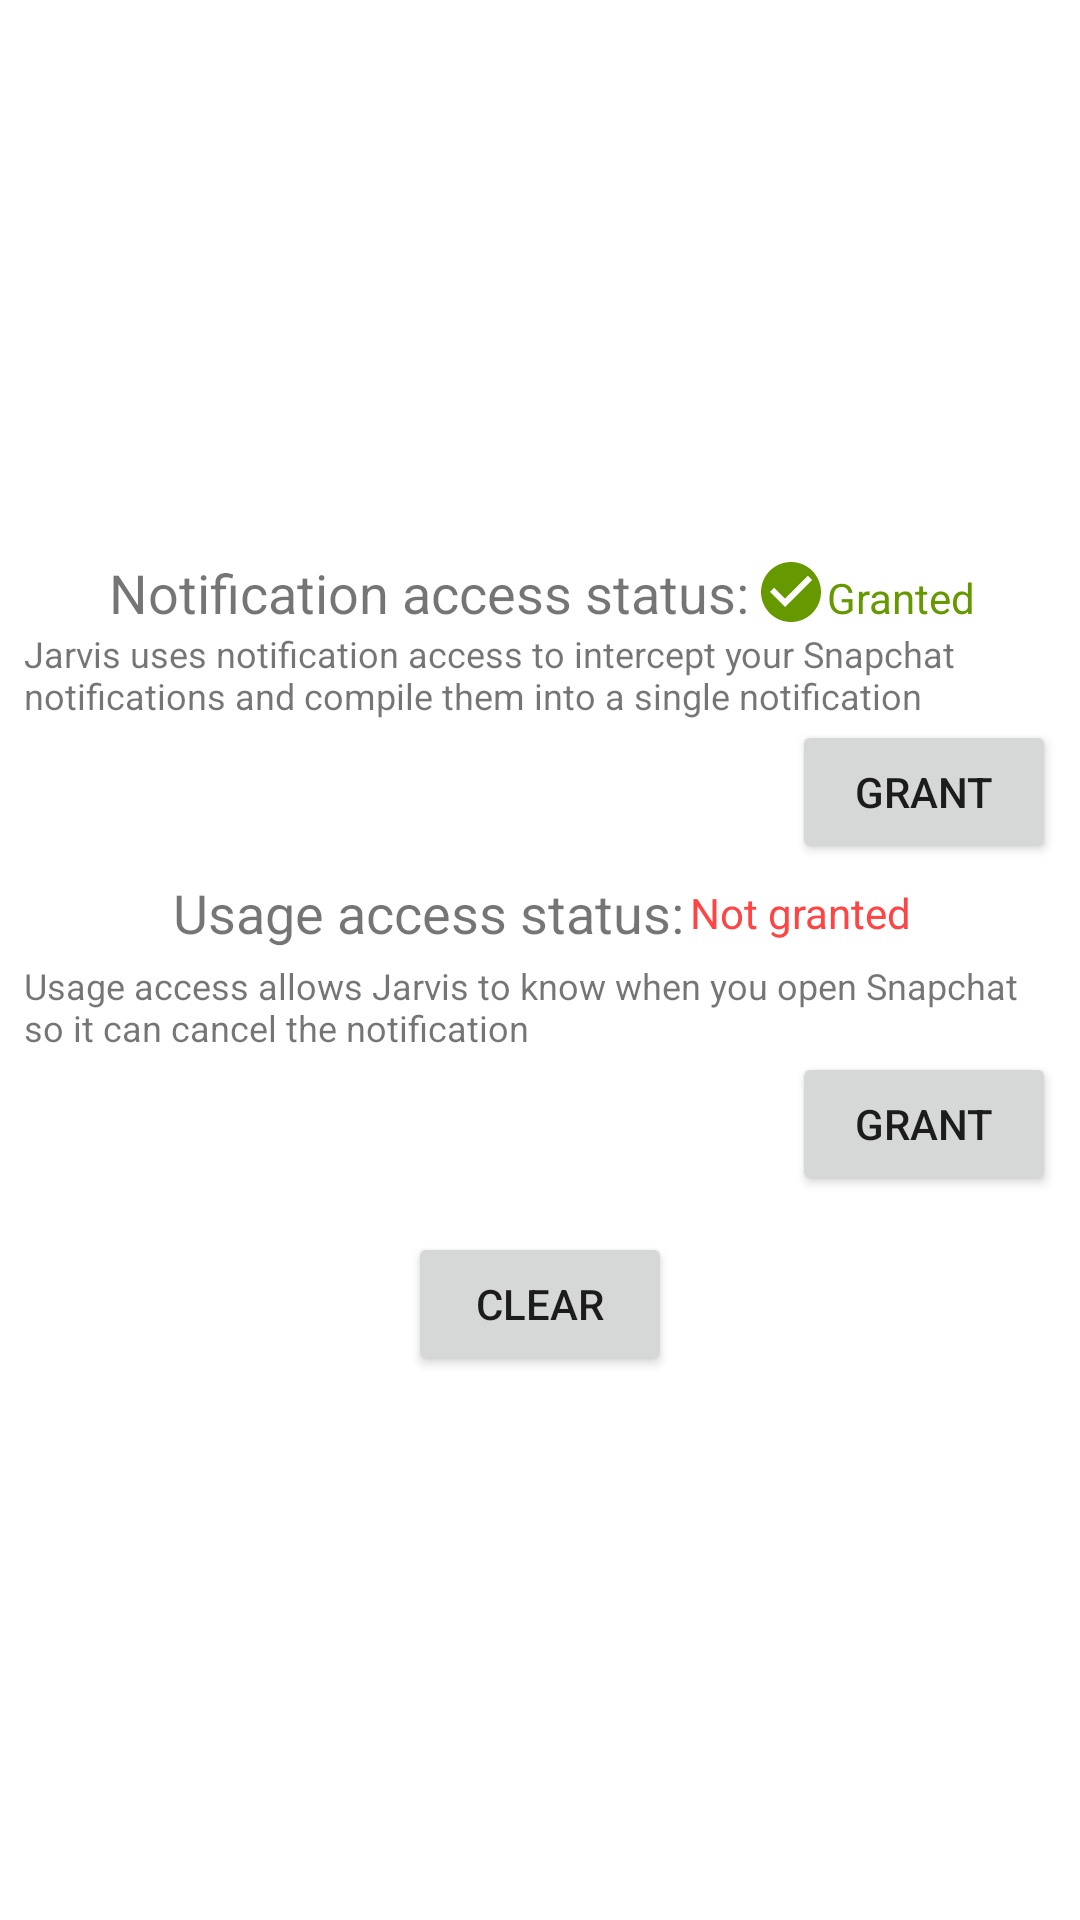

Where icons sit on this 1080w x 1920h app screen, as [x1=x1, y1=y1, x2=x2, y2=y2]:
check: [x1=761, y1=562, x2=821, y2=622]
